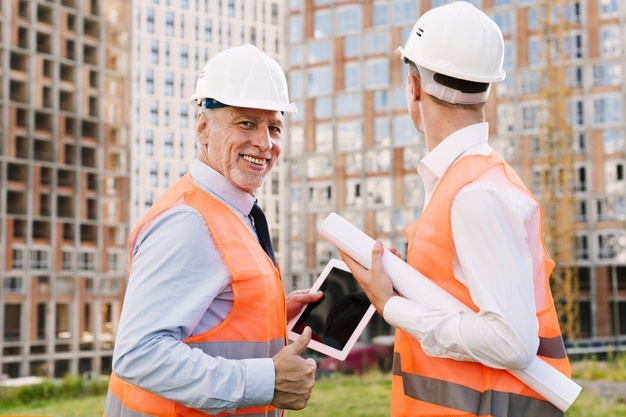helmet: (397, 3, 506, 87), (193, 43, 300, 113)
person with full safety: (373, 2, 580, 417), (116, 44, 317, 417)
safety vest: (396, 156, 573, 417), (120, 178, 291, 417)
